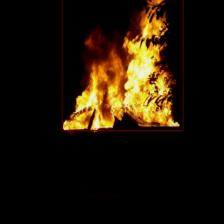fire: (62, 0, 183, 131)
